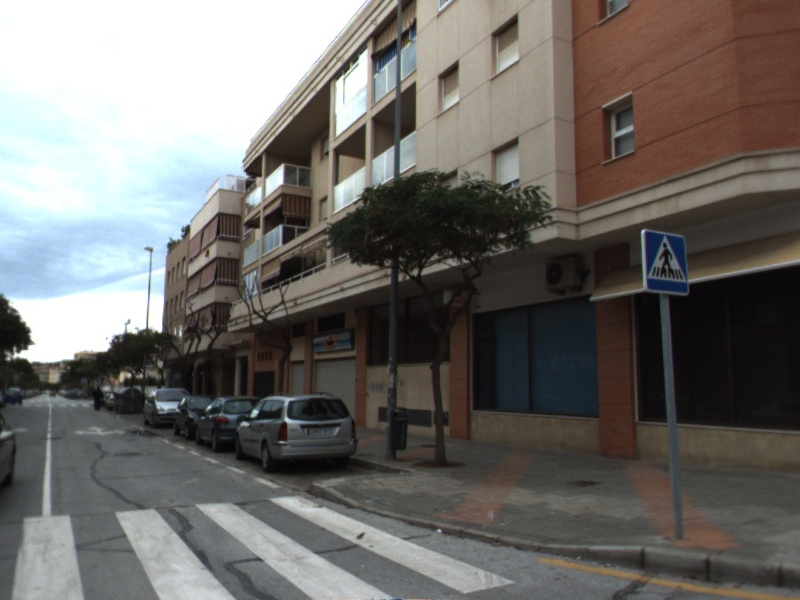STRAIGHT_LEFT_RIGHT: (72, 424, 128, 437)
